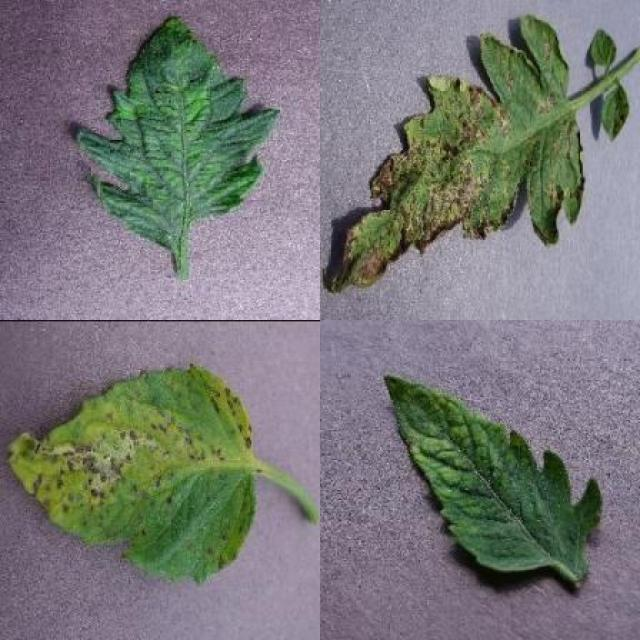Mosaic Virus: (77, 15, 282, 249), (384, 370, 606, 573)
Septoria: (328, 14, 583, 295), (7, 363, 260, 580)
